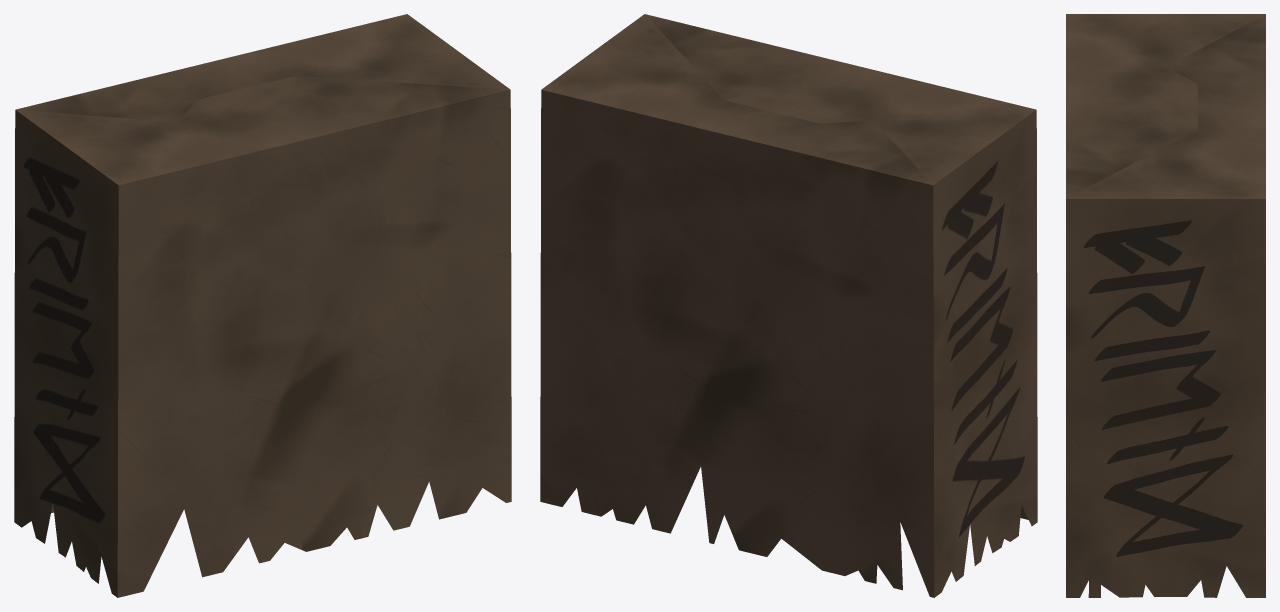
File: Mumei Friend.obj
3 renders of one model, left to right at view 1: azimuth 30°, elevation 25°; view 2: azimuth 150°, elevation 25°; view 3: azimuth 270°, elevation 25°, orthographic. The views are drawn at different scales.
Visible parts, largest first — view 1: Mumei_Friend_Cube; view 2: Mumei_Friend_Cube; view 3: Mumei_Friend_Cube.
Boxes of the visible parts, x1,y1,x2,y2 form: Mumei_Friend_Cube: (14, 14, 511, 597); Mumei_Friend_Cube: (540, 14, 1037, 597); Mumei_Friend_Cube: (1066, 14, 1265, 597).
Bounding box in the file's own units: 2 × 2 × 0.9095.
1 material, 1 textured.
